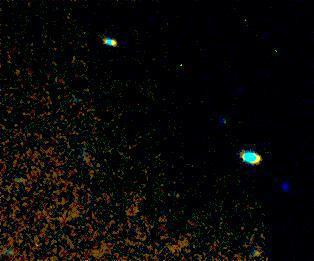star: (225, 74, 255, 104)
